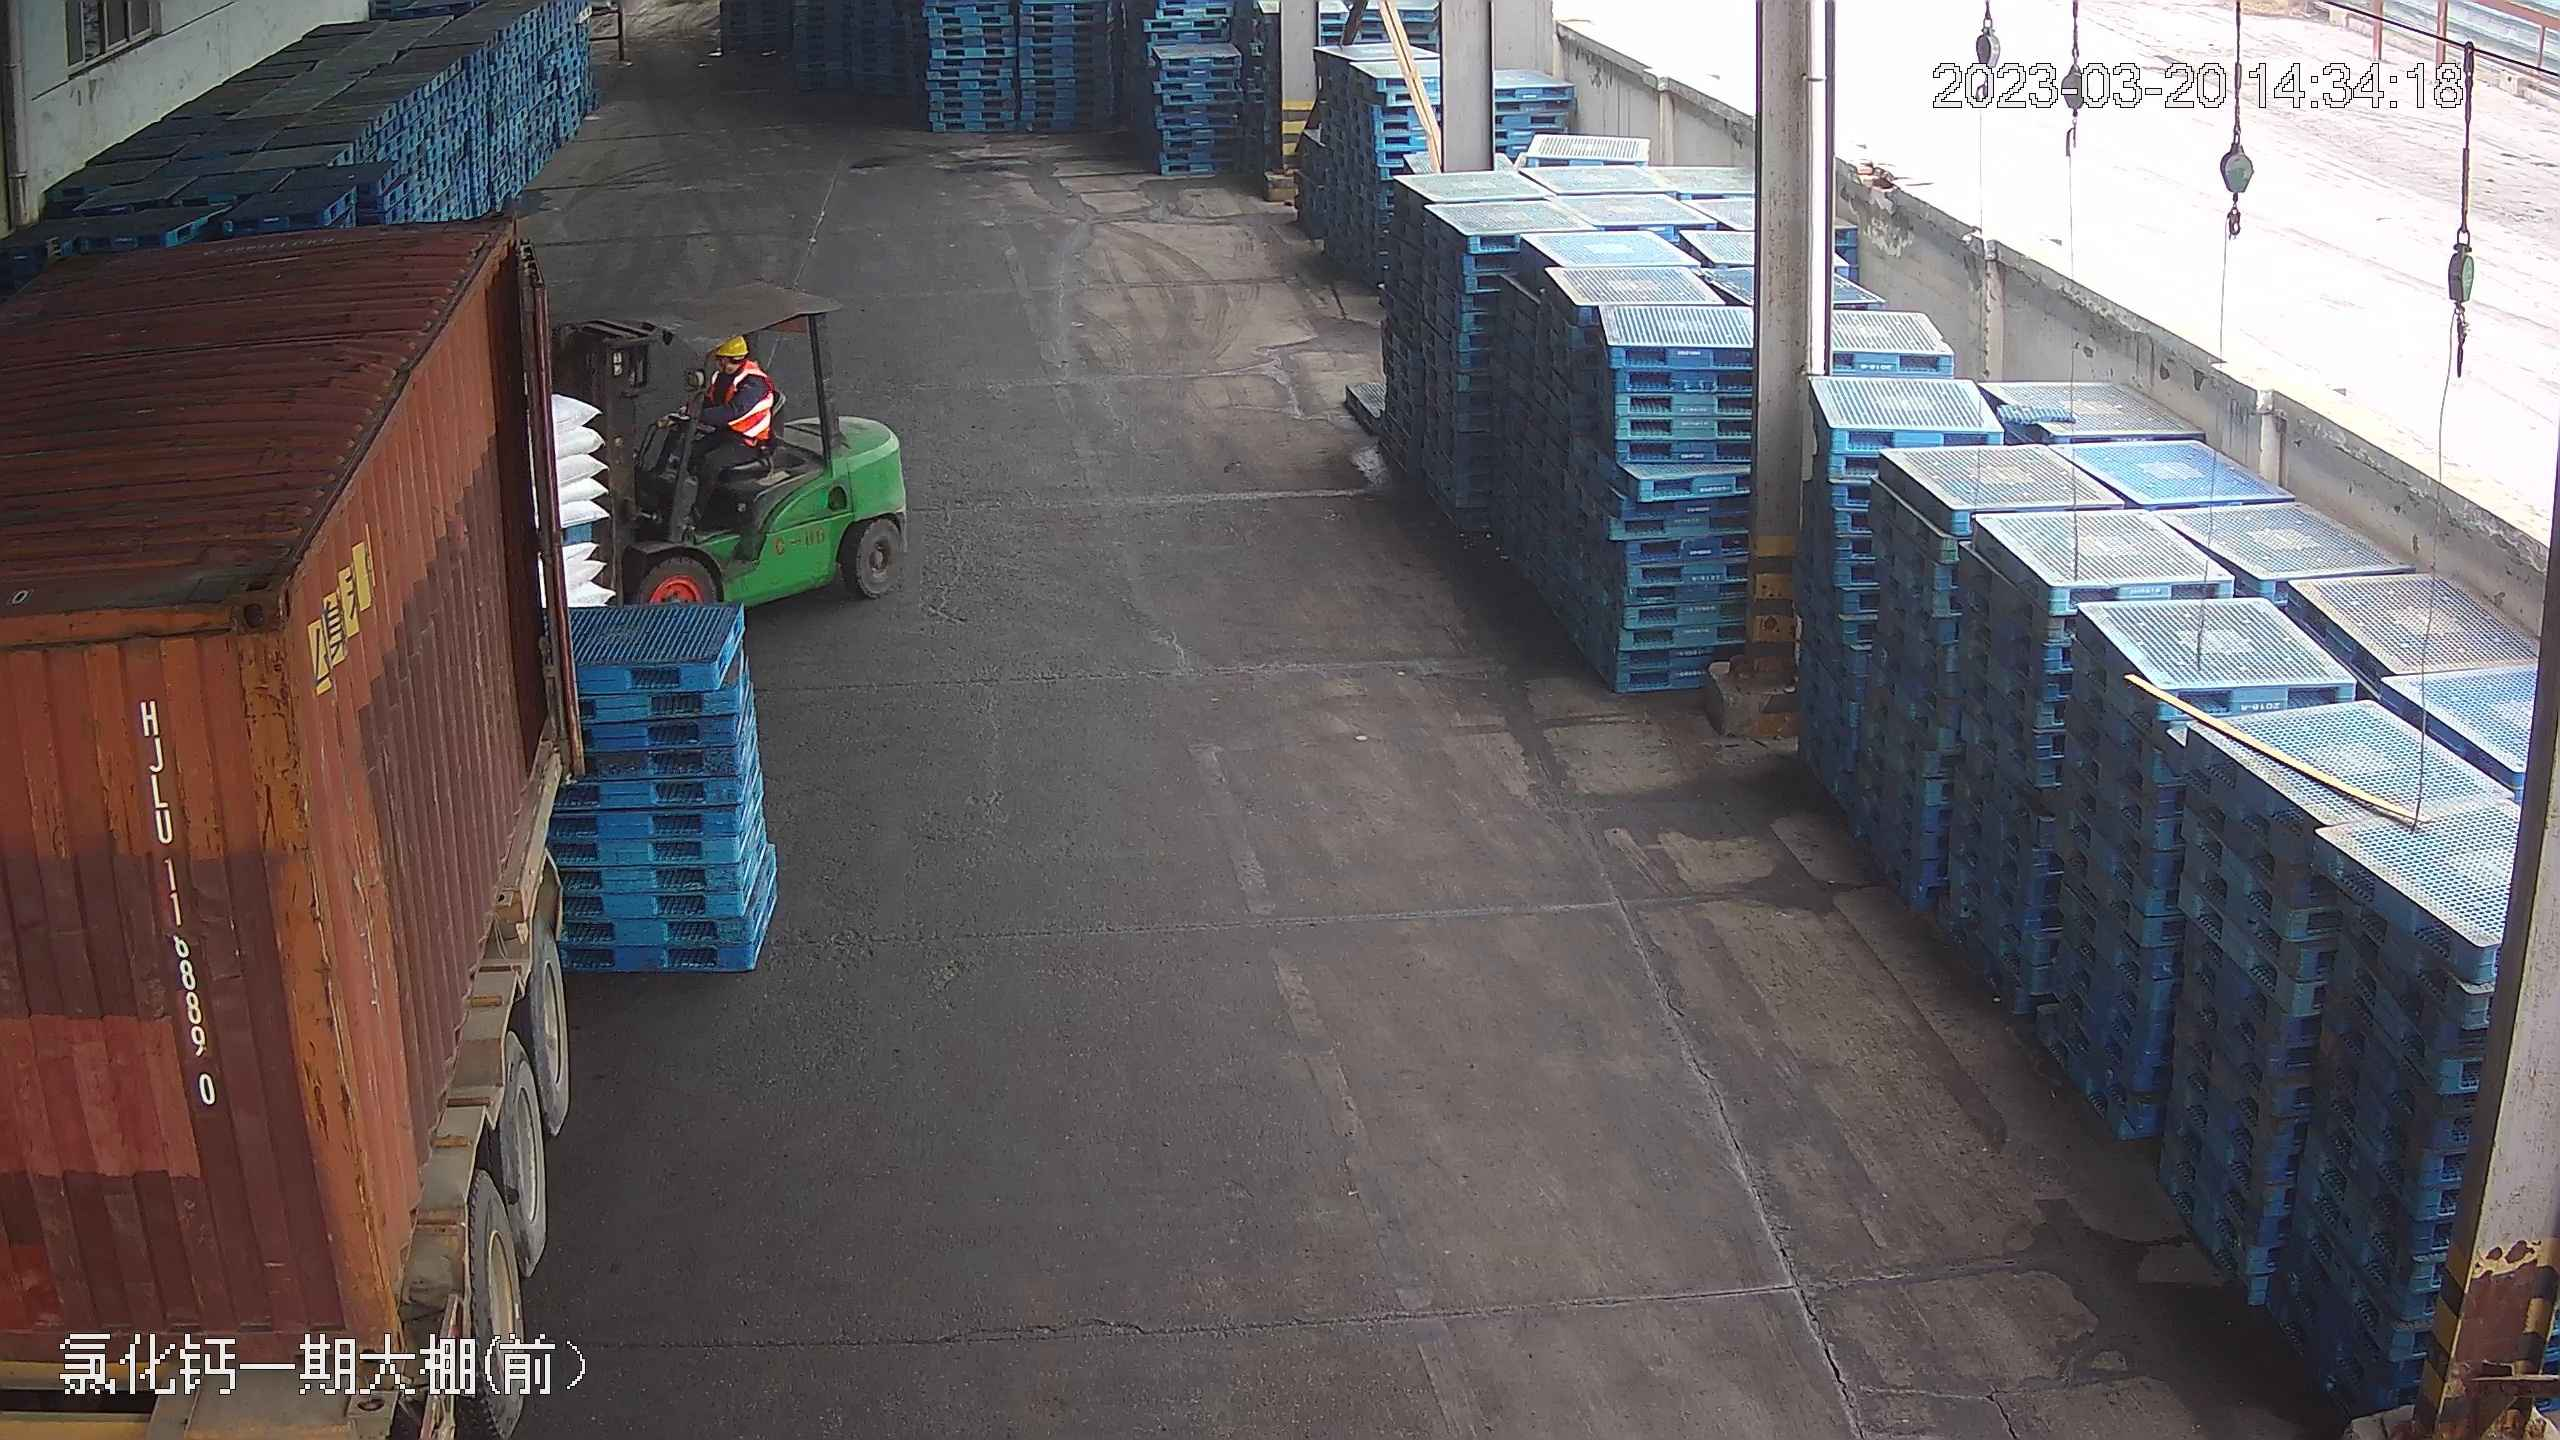head: (688, 337, 769, 416)
helmet: (712, 336, 748, 360)
people: (666, 330, 771, 521)
truck: (1, 184, 682, 1433)
